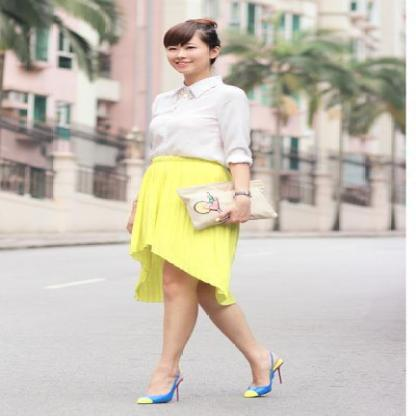bag: (176, 176, 275, 224)
shirt: (146, 76, 250, 162)
shoe: (138, 374, 274, 404)
skirt: (127, 155, 245, 314)
